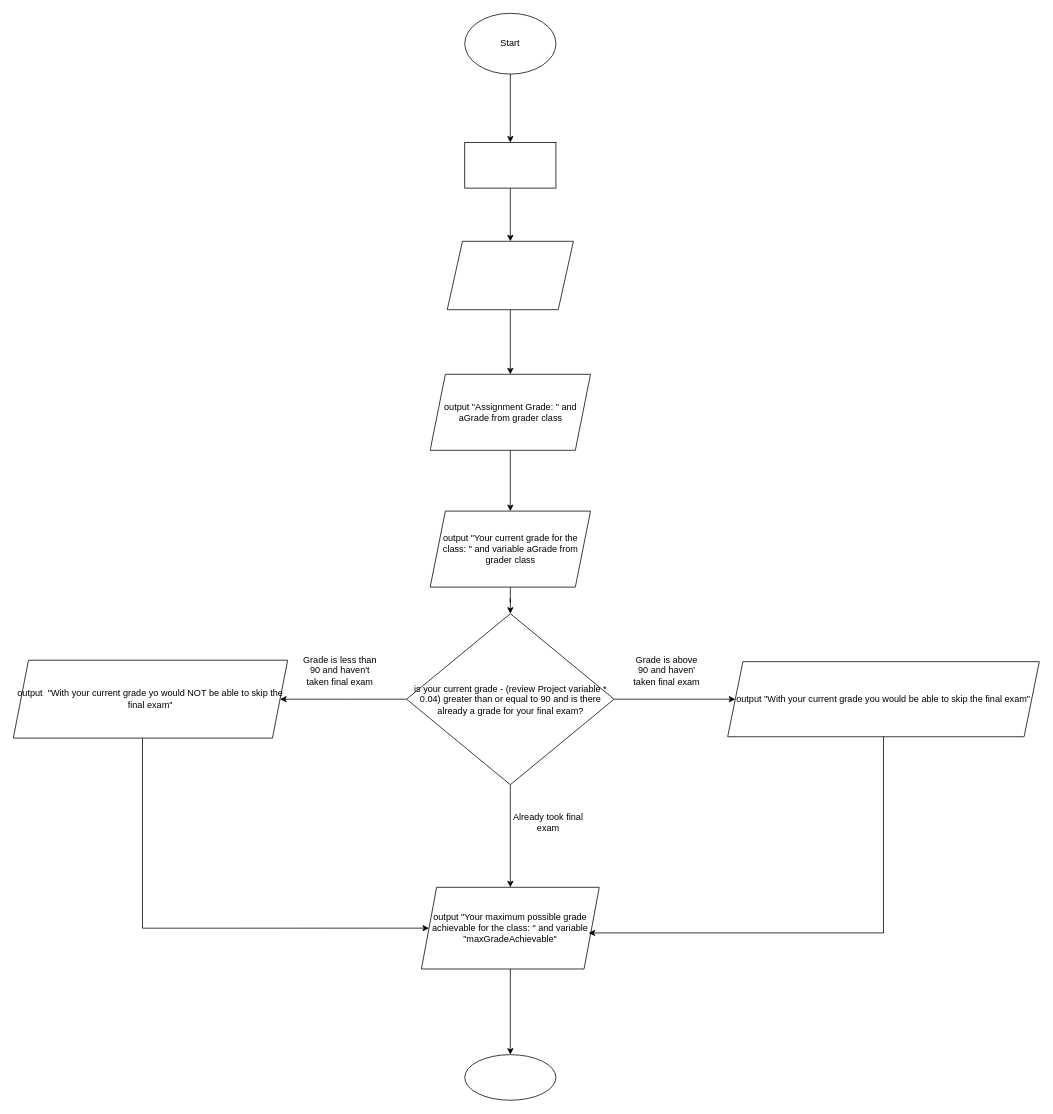
Image size: 1053x1114. Some labels were removed from this diagram. Each missing label, with the centre of its shape:
End: [510,1077]
output "Lab Grade: " and lGrade from grader class: [509,275]
Takes in parameter from class grader by reference: [510,165]
